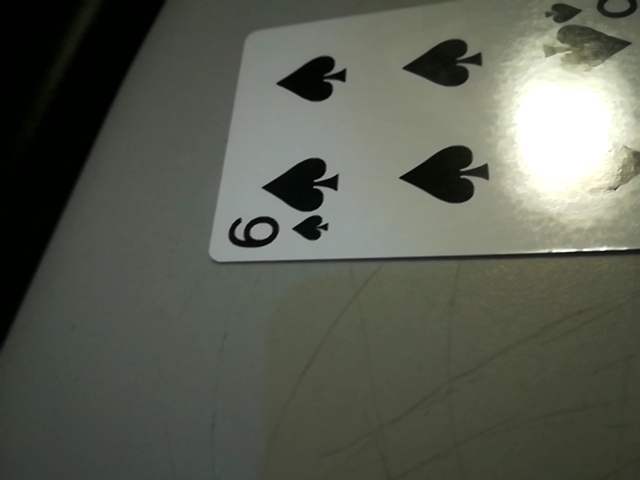ht 6: (208, 190, 345, 264)
